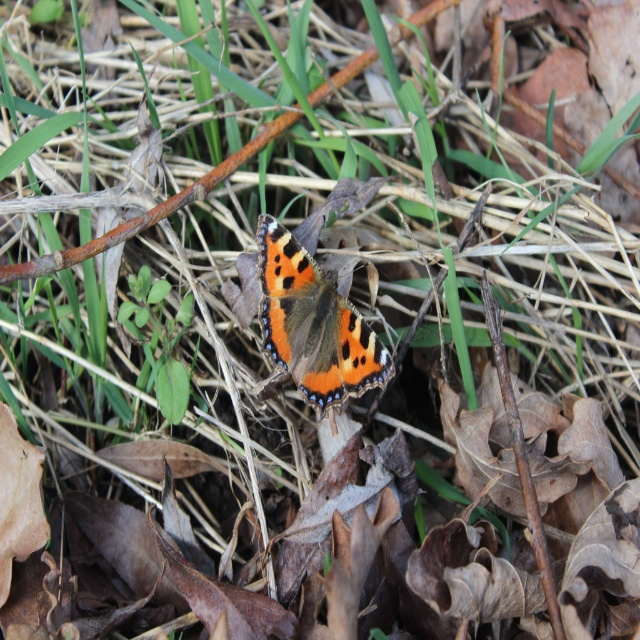Butterfly: (256, 214, 398, 420)
